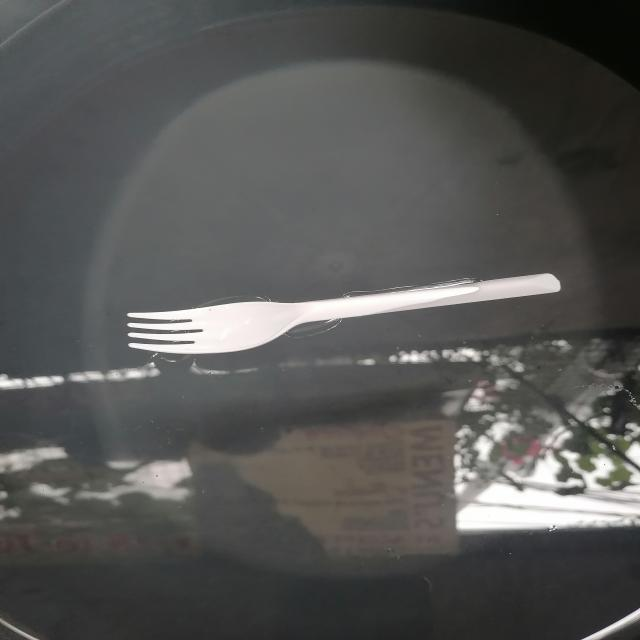Plastic Fork: (128, 274, 560, 355)
